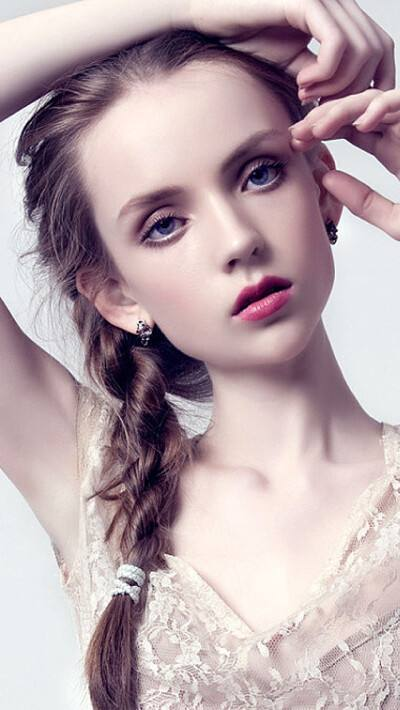person: (39, 7, 365, 710)
